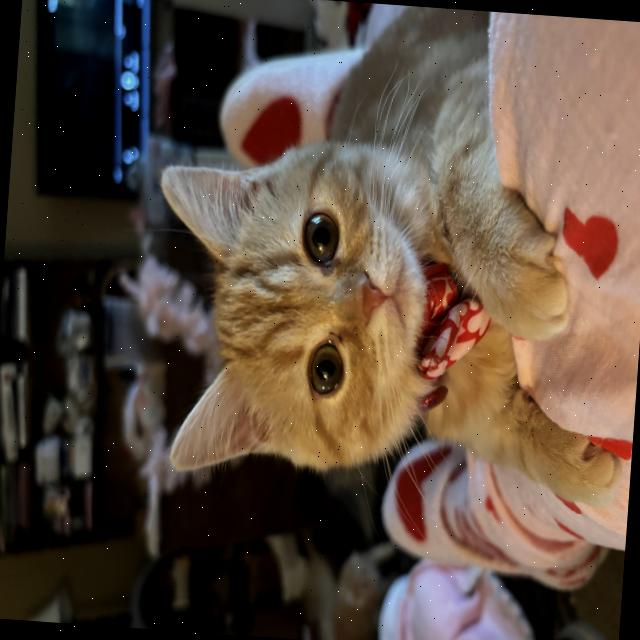persian_cat: (130, 90, 476, 523)
